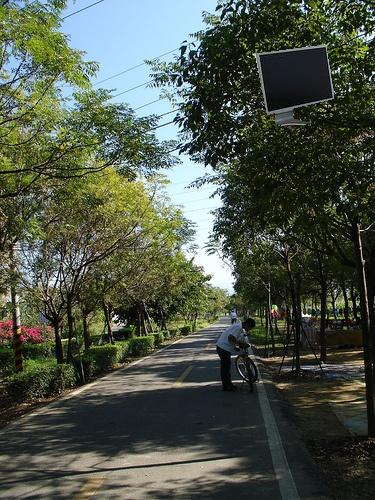tampered: (256, 45, 334, 130)
